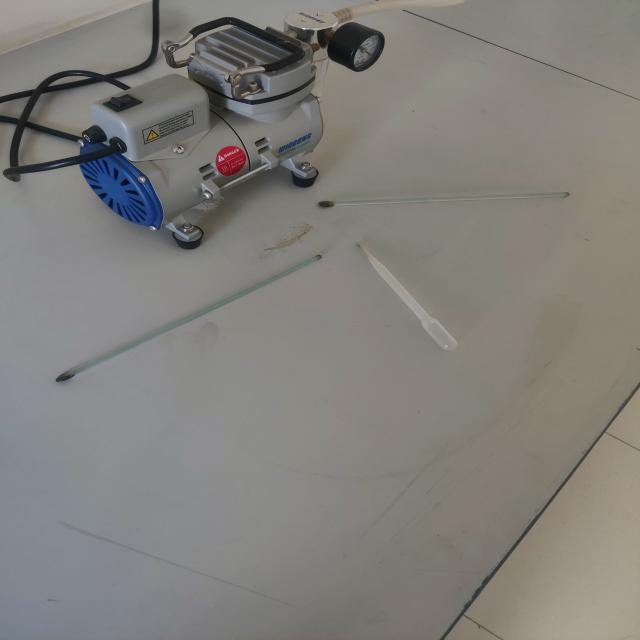Glass_Rod: (36, 242, 333, 395), (308, 172, 592, 222)
Pipette: (331, 219, 473, 362)
